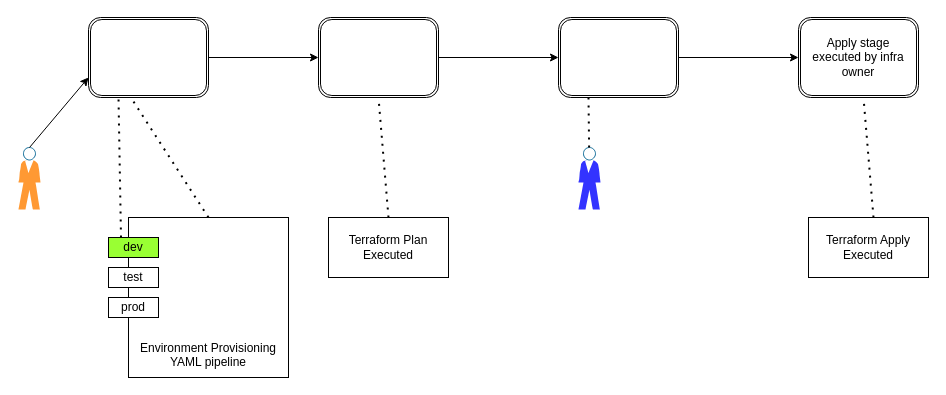
Image size: 946x395. Some labels were removed from this diagram. Each missing label, with the centre of its shape:
"Infra owner approves the Plan on defined semantics" goes at pixel 618 57.
"Plan stage/Plan output" goes at pixel 378 57.
"User enters environment parameter and runs it" goes at pixel 148 57.
